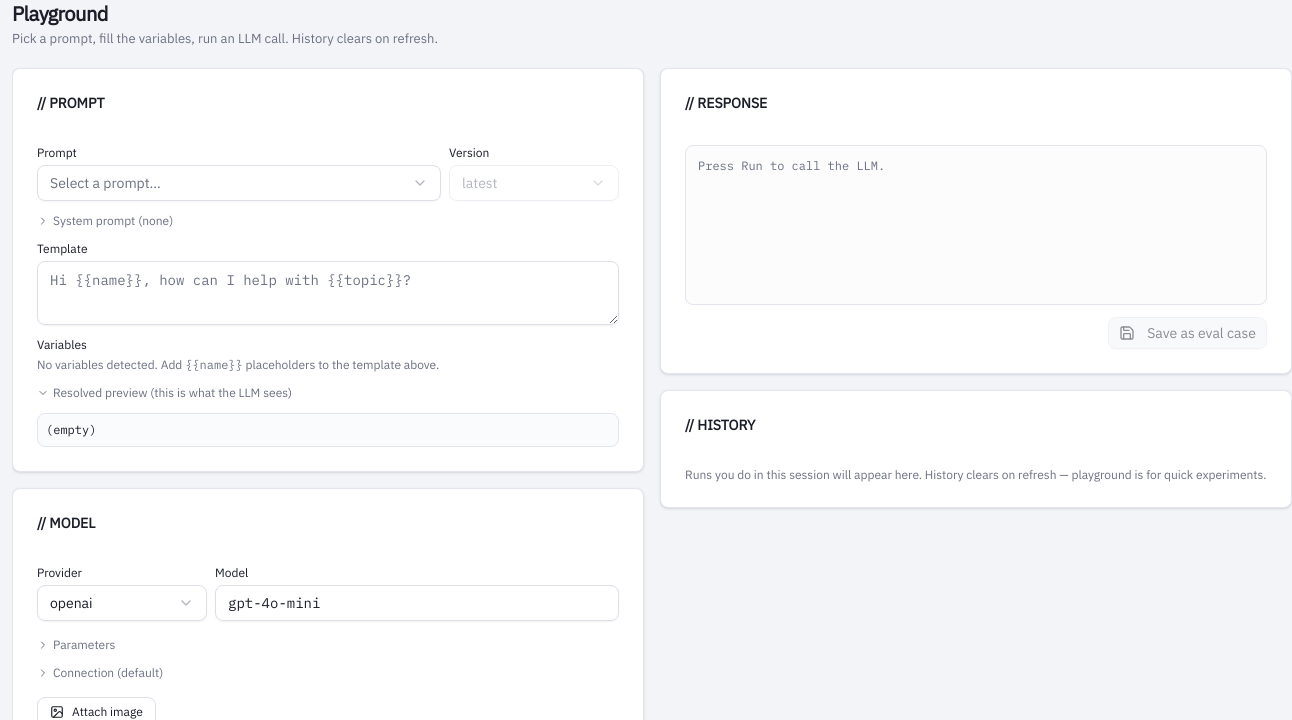
it: PlaygroundPage › shows the server's unfilled list, the truncation banner and the history chip (P10e/f)
This screenshot has width=1292, height=720.
Expected: the text "openai" is shown, [50,593,93,613]
In the text box labelled "Template": (328, 293) [37,261,619,325], type "plain text"
(page scrolled)
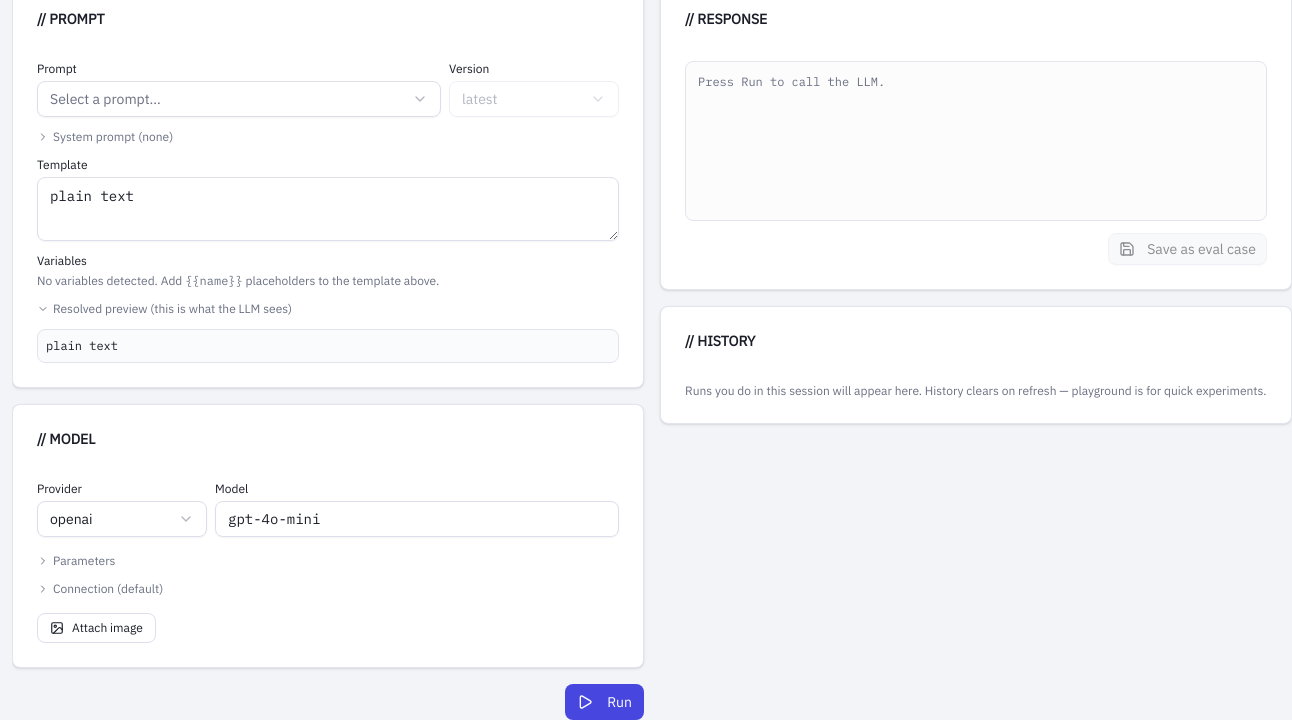
Click the button "Run": (605, 702) [565,684,644,719]
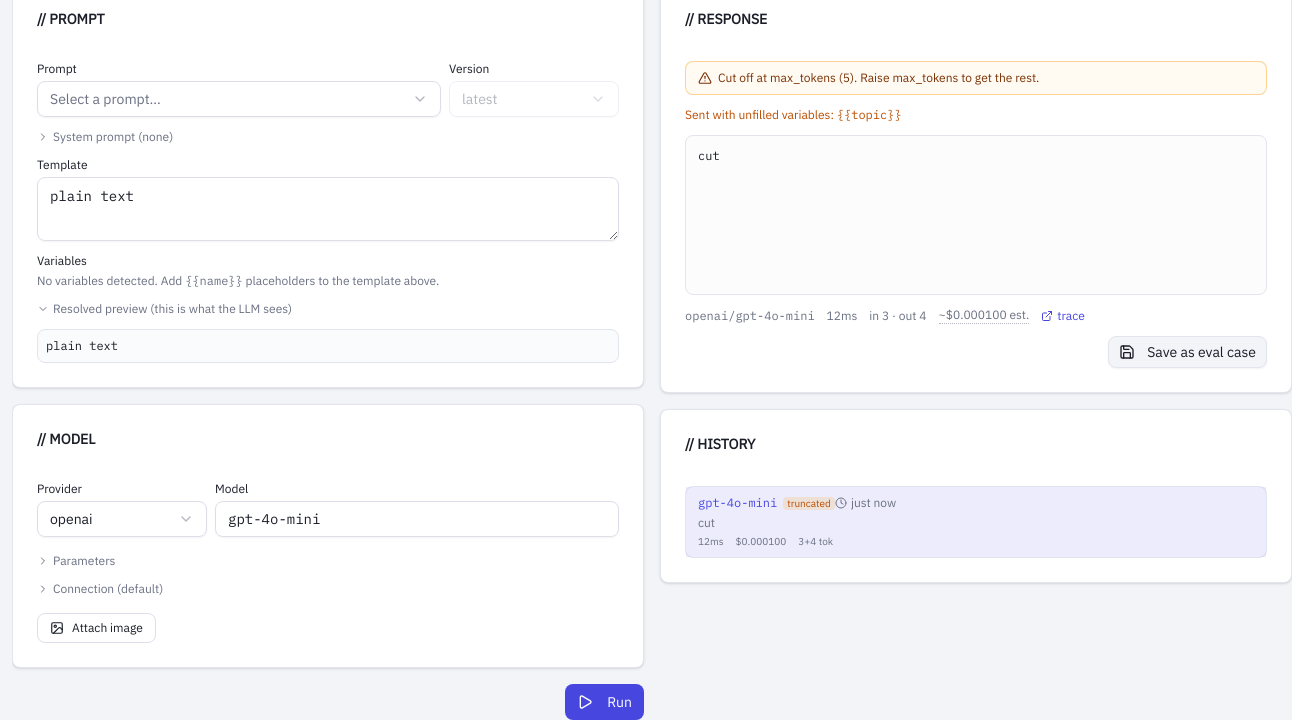
Result: the element with test id "truncated-banner" shows "Cut off at max_tokens (5)" at [685,61,1267,95]
Result: the element with test id "sent-unfilled" shows "{{topic}}" at [837,107,902,122]
Result: the text "truncated" is shown at [783,496,835,510]
